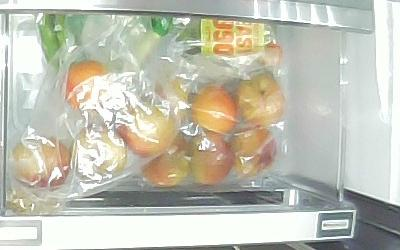prune_vinyl: (118, 100, 180, 157), (11, 136, 72, 192), (69, 125, 128, 177), (234, 74, 287, 127), (140, 134, 189, 187), (191, 83, 237, 133), (233, 128, 279, 177), (189, 133, 234, 182), (62, 60, 106, 108), (149, 78, 189, 121)
